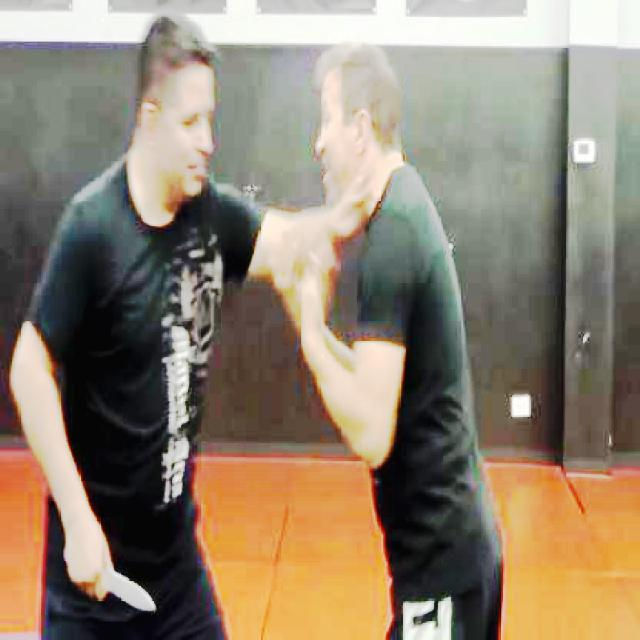Knife: (73, 558, 155, 612)
